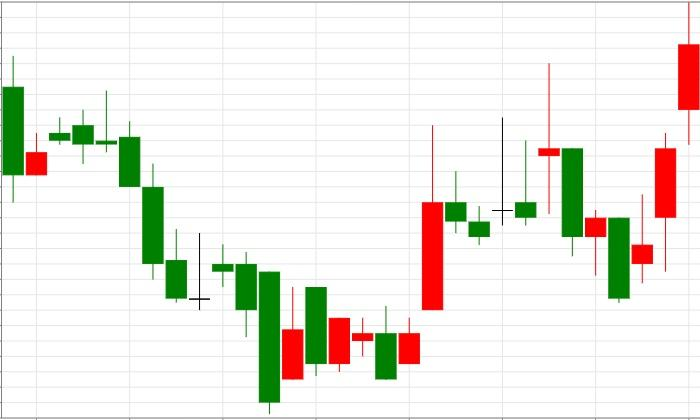three_white_soldiers_rise: (538, 2, 699, 303)
